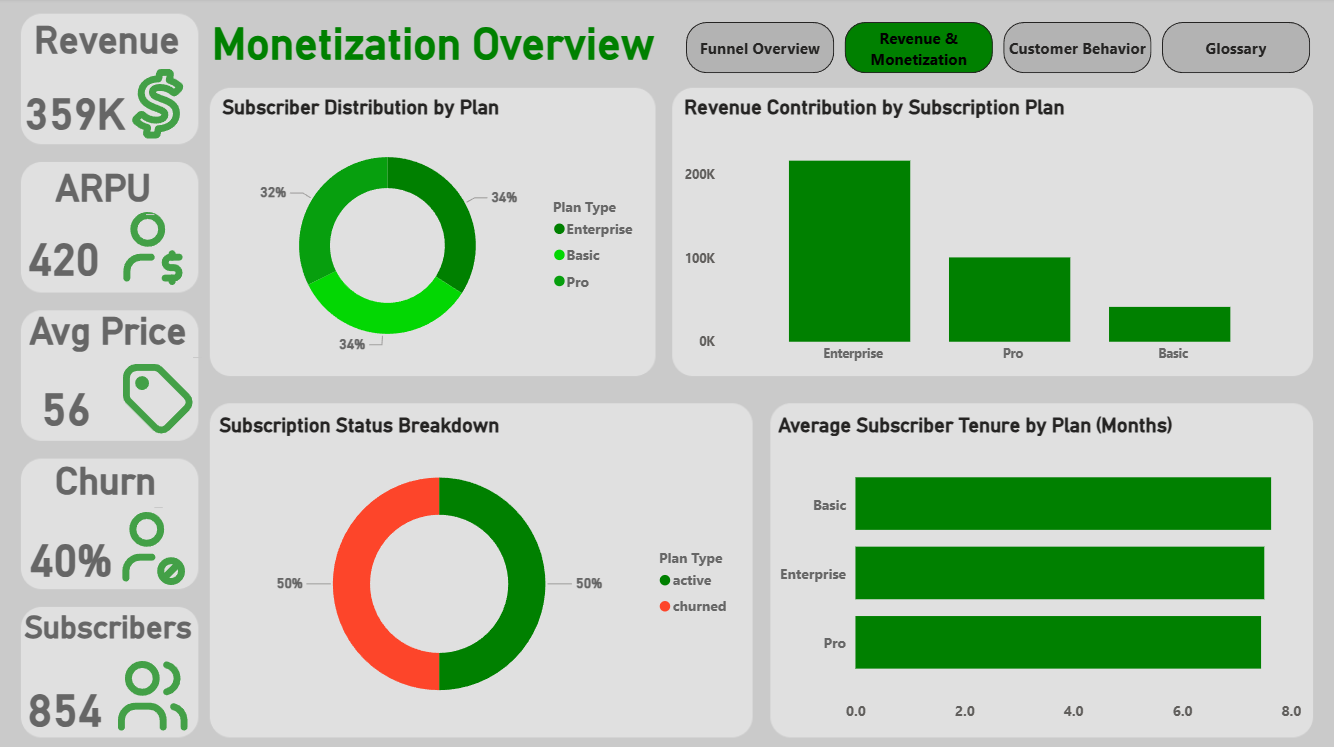

The page's visual inventory and layout, read from the dashboard file:
{"tool":"powerbi","page":{"name":"Revenue & Monetization","canvas":[1280,720],"ordinal":1},"visuals":[{"type":"card","title":"Revenue","fields":{"Values":["_Measures.Total Revenue"]},"box":[16.3,78.6,113.1,56.5],"z":0},{"type":"card","title":"ARPU","fields":{"Values":["_Measures.ARPU"]},"box":[19,217,86,59],"z":1000},{"type":"card","title":"Avg Price","fields":{"Values":["_Measures.Avg Monthly Price"]},"box":[24,350.7,79.5,77.6],"z":2000},{"type":"card","title":"Churn","fields":{"Values":["_Measures.Churn Rate"]},"box":[14.4,504,109.2,60.4],"z":3000},{"type":"clusteredColumnChart","title":"Revenue Contribution by Subscription Plan","fields":{"Category":["subscription.plan_type"],"Y":["_Measures.Revenue by Plan"]},"box":[651.9,93.1,601,266.4],"z":4000},{"type":"donutChart","title":"Subscriber Distribution by Plan","fields":{"Category":["subscription.plan_type"],"Y":["_Measures.Subscribers by Plan"]},"box":[209,93.1,412.6,266.4],"z":5000},{"type":"donutChart","title":"Subscription Status Breakdown","fields":{"Category":["subscription.subscription_status"],"Y":["_Measures.Total Users"]},"box":[205.8,397.4,514.4,305.4],"z":6000},{"type":"clusteredBarChart","title":"Average Subscriber Tenure by Plan (Months)","fields":{"Category":["subscription.plan_type"],"Y":["_Measures.Avg Tenure (Months)"]},"box":[741.8,397.4,511.1,304.3],"z":7000},{"type":"card","title":"Subscribers","fields":{"Values":["_Measures.Paid Users"]},"box":[17.2,644.8,92,66.1],"z":8000},{"type":"image","box":[112.1,61.3,80.5,80],"z":9000},{"type":"image","box":[102.5,198.3,80.5,80.5],"z":10000},{"type":"image","box":[112.1,344,80.5,80.5],"z":11000},{"type":"image","box":[101.6,485.7,80.5,80.5],"z":12000},{"type":"image","box":[107.3,628.5,80.5,80.5],"z":13000},{"type":"textbox","title":"Subscribers","box":[19.2,585.4,173.4,43.1],"z":14000},{"type":"textbox","title":"Churn","box":[48.9,441.7,113.1,51.7],"z":15000},{"type":"textbox","title":"Avg Price","box":[24,298,175.3,51.7],"z":16000},{"type":"textbox","title":"ARPU","box":[48.9,161,105.4,51.7],"z":17000},{"type":"textbox","title":"Revenue","box":[28.7,19.2,153.3,42.2],"z":18000},{"type":"pageNavigator","box":[658.2,23,600.7,49.8],"z":19000},{"type":"textbox","title":"Monetization Overview","box":[199.3,19.2,440.7,51.7],"z":20000}]}

Visuals, with their boxes in screenshot pixels (x1, y1, x2, y2), scaled from the page's 1280x720 canvas onto the 1334x747 screenshot:
"Revenue" card: [x1=17, y1=82, x2=135, y2=140]
"ARPU" card: [x1=20, y1=225, x2=109, y2=286]
"Avg Price" card: [x1=25, y1=364, x2=108, y2=444]
"Churn" card: [x1=15, y1=523, x2=129, y2=586]
"Revenue Contribution by Subscription Plan" clusteredColumnChart: [x1=679, y1=97, x2=1306, y2=373]
"Subscriber Distribution by Plan" donutChart: [x1=218, y1=97, x2=648, y2=373]
"Subscription Status Breakdown" donutChart: [x1=214, y1=412, x2=751, y2=729]
"Average Subscriber Tenure by Plan (Months)" clusteredBarChart: [x1=773, y1=412, x2=1306, y2=728]
"Subscribers" card: [x1=18, y1=669, x2=114, y2=738]
image: [x1=117, y1=64, x2=201, y2=147]
image: [x1=107, y1=206, x2=191, y2=289]
image: [x1=117, y1=357, x2=201, y2=440]
image: [x1=106, y1=504, x2=190, y2=587]
image: [x1=112, y1=652, x2=196, y2=736]
"Subscribers" textbox: [x1=20, y1=607, x2=201, y2=652]
"Churn" textbox: [x1=51, y1=458, x2=169, y2=512]
"Avg Price" textbox: [x1=25, y1=309, x2=208, y2=363]
"ARPU" textbox: [x1=51, y1=167, x2=161, y2=221]
"Revenue" textbox: [x1=30, y1=20, x2=190, y2=64]
pageNavigator: [x1=686, y1=24, x2=1312, y2=76]
"Monetization Overview" textbox: [x1=208, y1=20, x2=667, y2=74]
